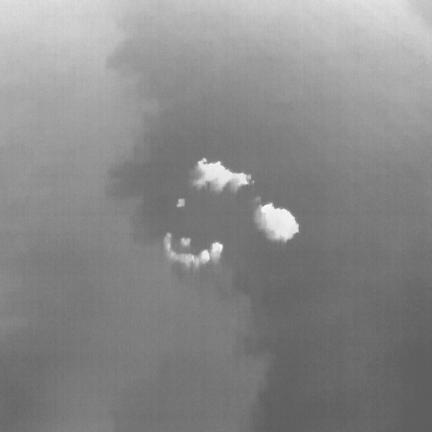flukeprints: (191, 159, 252, 192), (255, 203, 298, 241), (212, 242, 221, 256), (199, 250, 209, 262), (181, 238, 190, 246), (177, 199, 184, 207)
